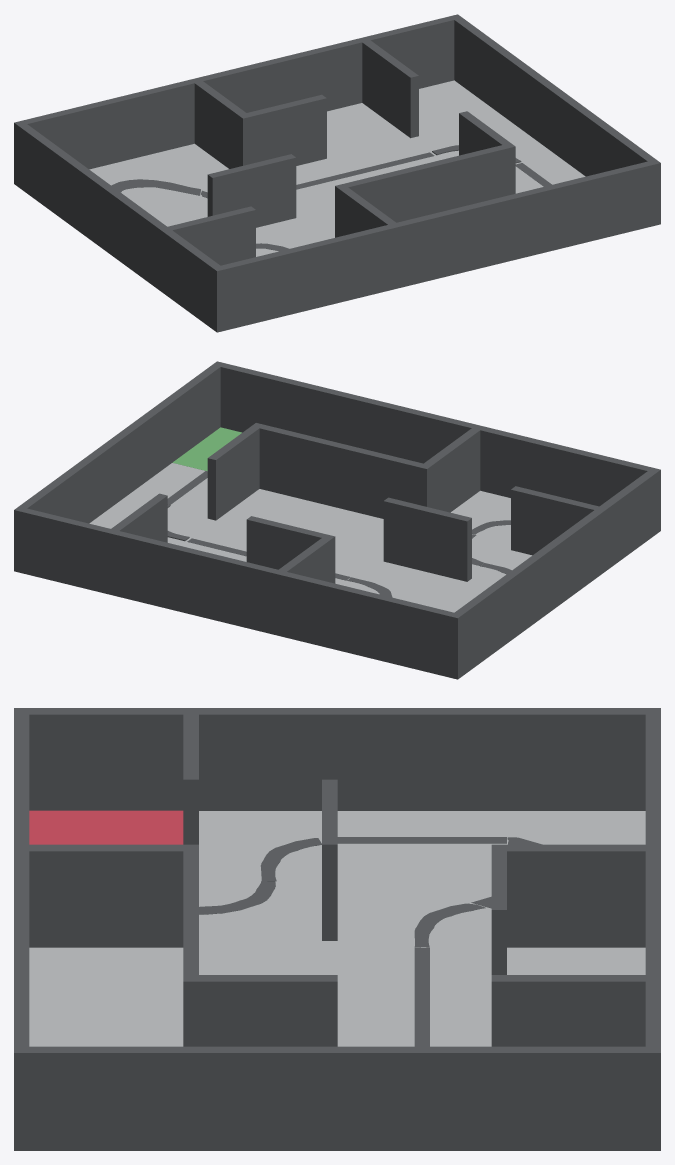
The model's file is line_movement.glb.
3 renders of one model, top to bottom at view 1: azimuth 30°, elevation 25°; view 2: azimuth 150°, elevation 25°; view 3: azimuth 270°, elevation 25°, orthographic. The views are drawn at different scales.
Parts seen in each view (by area): view 1: Mesh_Mesh_head_geo.001_lambert2SG.001; view 2: Mesh_Mesh_head_geo.001_lambert2SG.001; view 3: Mesh_Mesh_head_geo.001_lambert2SG.001.
Part boxes in pixels (x1,y1,x2,y2): Mesh_Mesh_head_geo.001_lambert2SG.001: (14, 14, 660, 332); Mesh_Mesh_head_geo.001_lambert2SG.001: (14, 361, 660, 679); Mesh_Mesh_head_geo.001_lambert2SG.001: (14, 708, 660, 1150).
Size of the model in its own units: 5.3 by 0.7 by 4.2.
